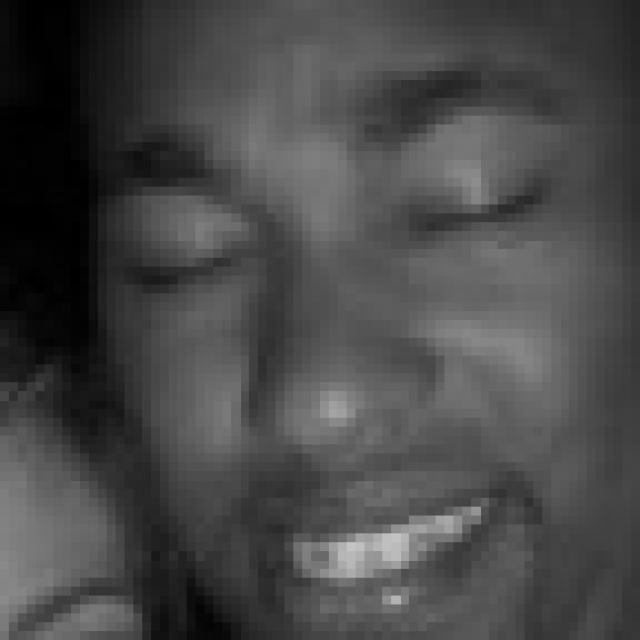real: (98, 0, 640, 640), (118, 176, 574, 304)
